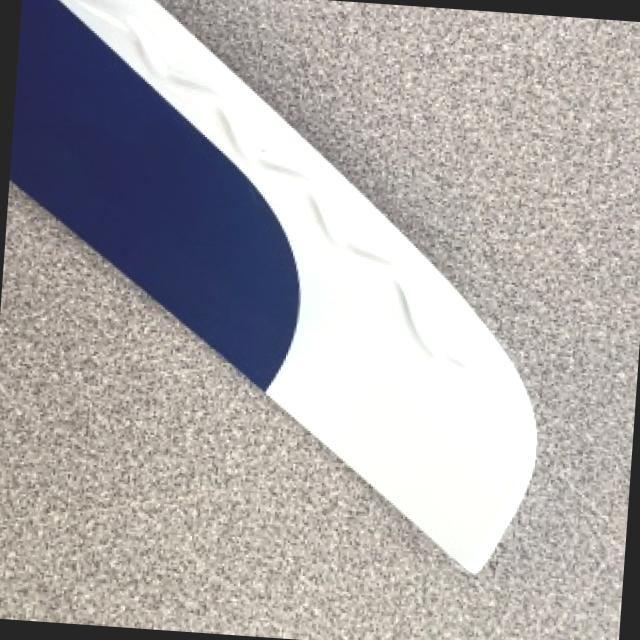healthy: (9, 0, 533, 568)
